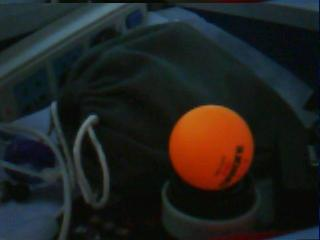oball: (168, 106, 255, 189)
